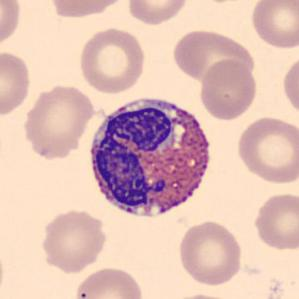Eosinophil: (84, 90, 220, 226)
RBC: (19, 81, 97, 162), (76, 25, 148, 95), (176, 218, 245, 288), (38, 206, 109, 274), (169, 27, 255, 83), (234, 114, 298, 186), (198, 58, 259, 121), (251, 190, 298, 252), (72, 264, 146, 299), (248, 0, 298, 50), (0, 48, 33, 118), (125, 0, 190, 26), (45, 0, 129, 19), (281, 52, 299, 118), (0, 0, 22, 50), (166, 291, 236, 299)
